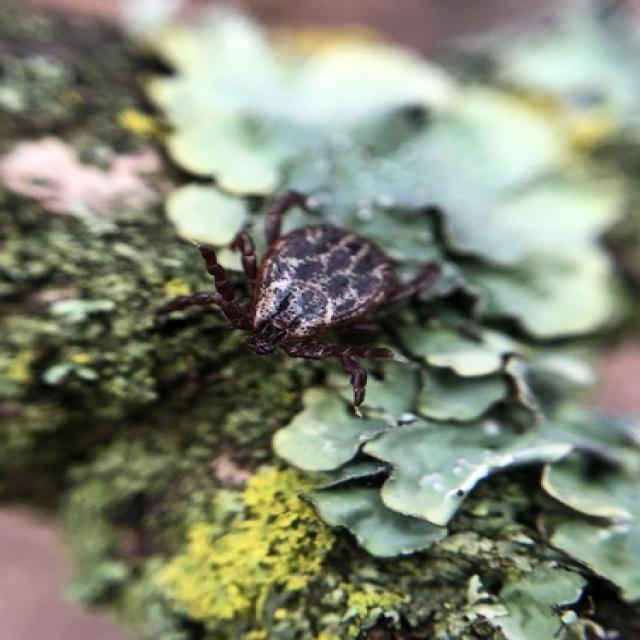Dermacentor Reticulatus-M: (201, 191, 440, 408)
